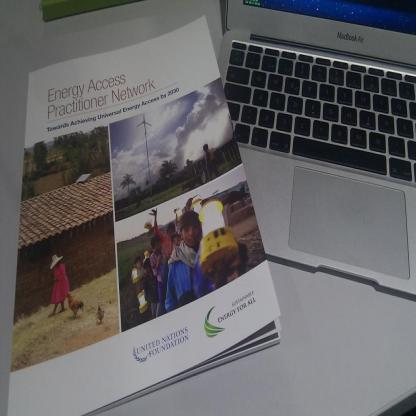board: (217, 0, 416, 306)
